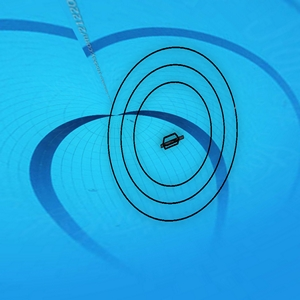circle: (105, 43, 241, 227)
submarine: (156, 136, 185, 155)
